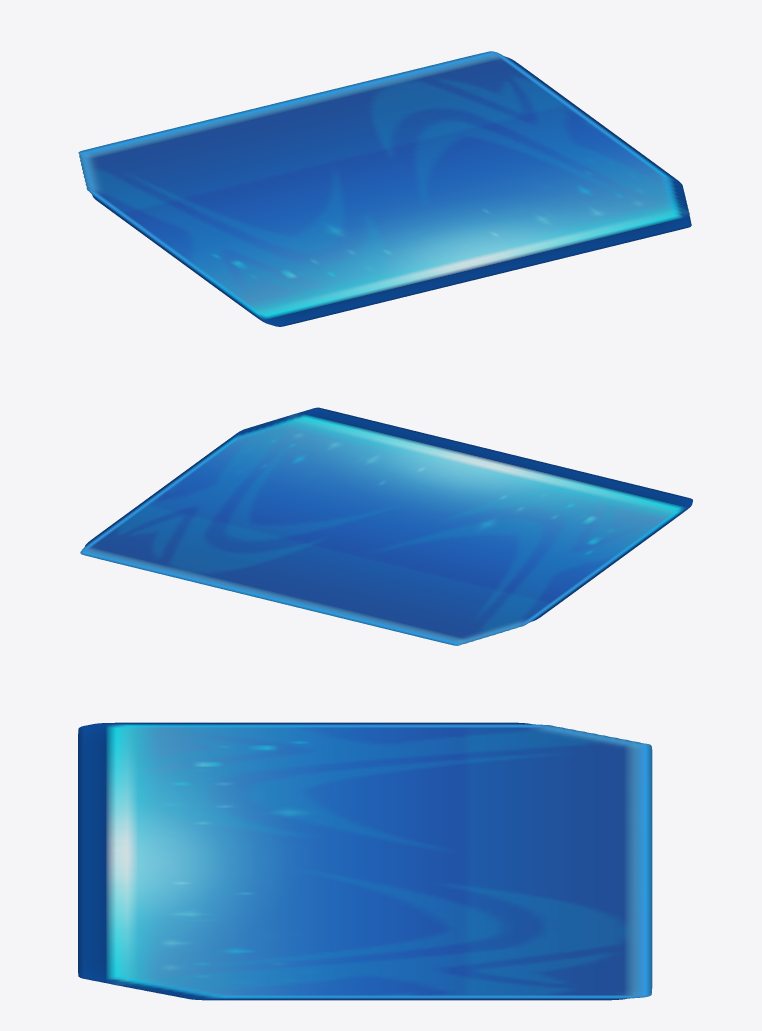
File: UI_VIP_anniu.FBX
3 renders of one model, top to bottom at view 1: azimuth 30°, elevation 25°; view 2: azimuth 150°, elevation 25°; view 3: azimuth 270°, elevation 25°, orthographic. The views are drawn at different scales.
Visible parts, largest first — view 1: UI_VIP_anniu; view 2: UI_VIP_anniu; view 3: UI_VIP_anniu.
Boxes of the visible parts, x1,y1,x2,y2 form: UI_VIP_anniu: (78,51,691,326); UI_VIP_anniu: (80,407,692,645); UI_VIP_anniu: (78,722,652,1000).
Size of the model in its own units: 100 by 2.83e-14 by 100.
